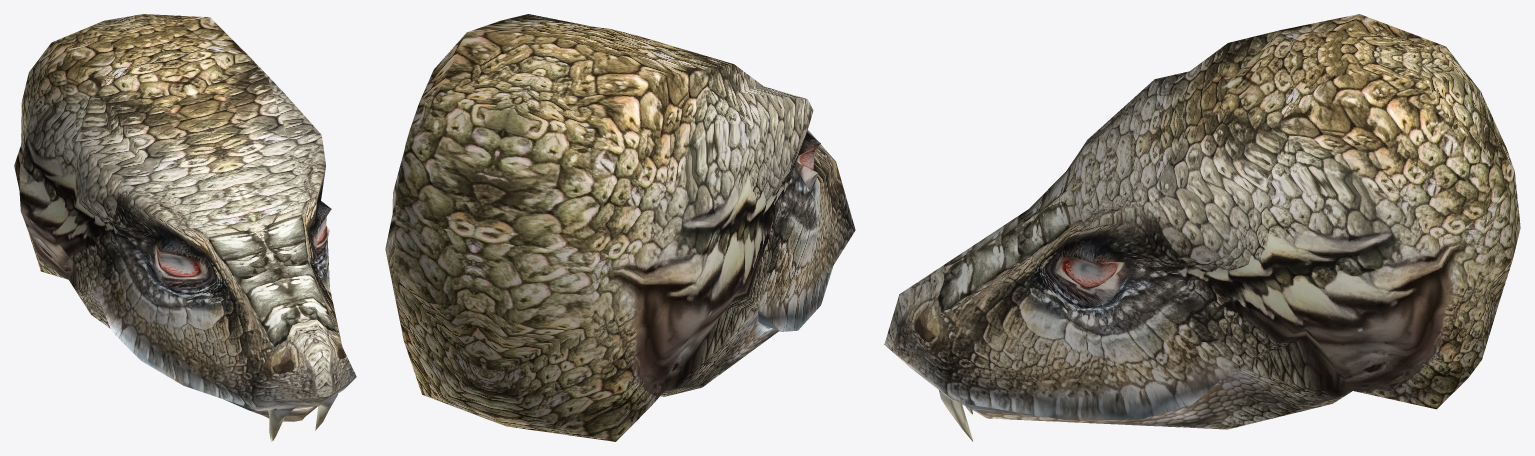
Rendered from b_v_argonian_f_head_01.glb.
The picture shows the model from 3 angles, left to right: view 1: azimuth 30°, elevation 25°; view 2: azimuth 150°, elevation 25°; view 3: azimuth 270°, elevation 25°; orthographic projection. The views are drawn at different scales.
Visible parts, largest first — view 1: Tri B_V_Argonian_F_Head_01; view 2: Tri B_V_Argonian_F_Head_01; view 3: Tri B_V_Argonian_F_Head_01.
Part boxes in pixels (x1,y1,x2,y2): Tri B_V_Argonian_F_Head_01: (14, 14, 356, 441); Tri B_V_Argonian_F_Head_01: (385, 14, 855, 441); Tri B_V_Argonian_F_Head_01: (884, 14, 1520, 441).
Bounding box in the file's own units: 0.0988 × 0.1259 × 0.1909.
1 material, 1 textured.
